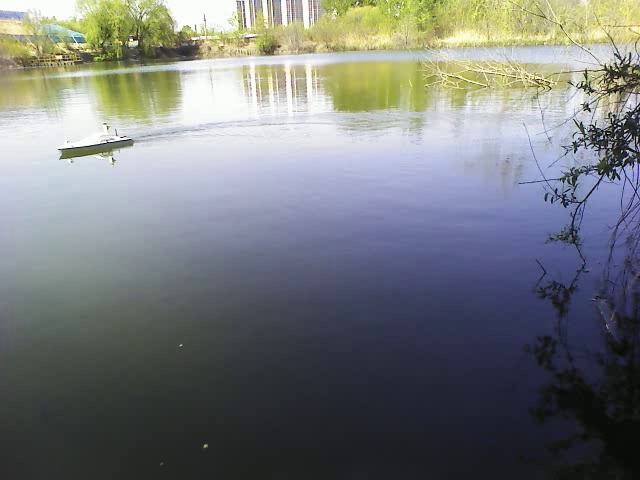boat: (58, 127, 136, 157)
